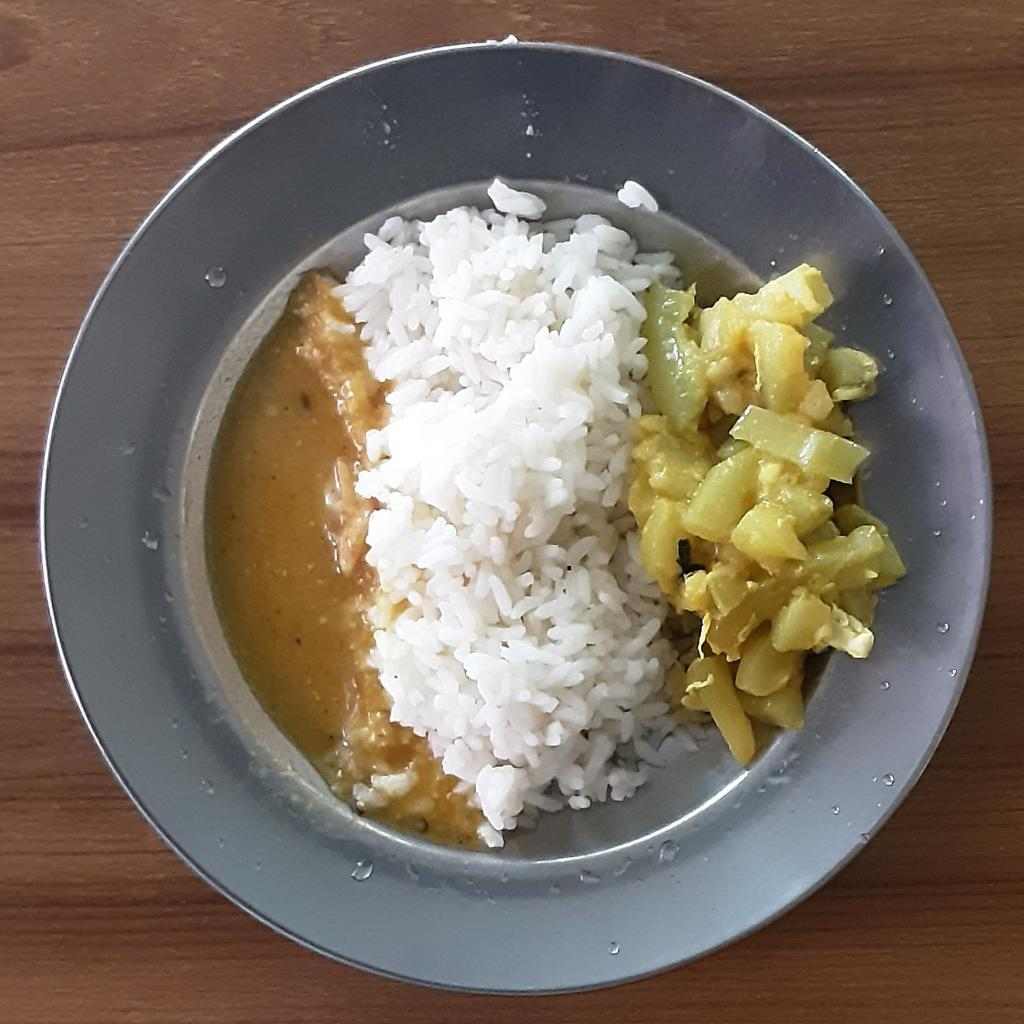daal: (202, 269, 494, 853)
lau: (633, 256, 907, 769)
rice: (342, 181, 697, 845)
